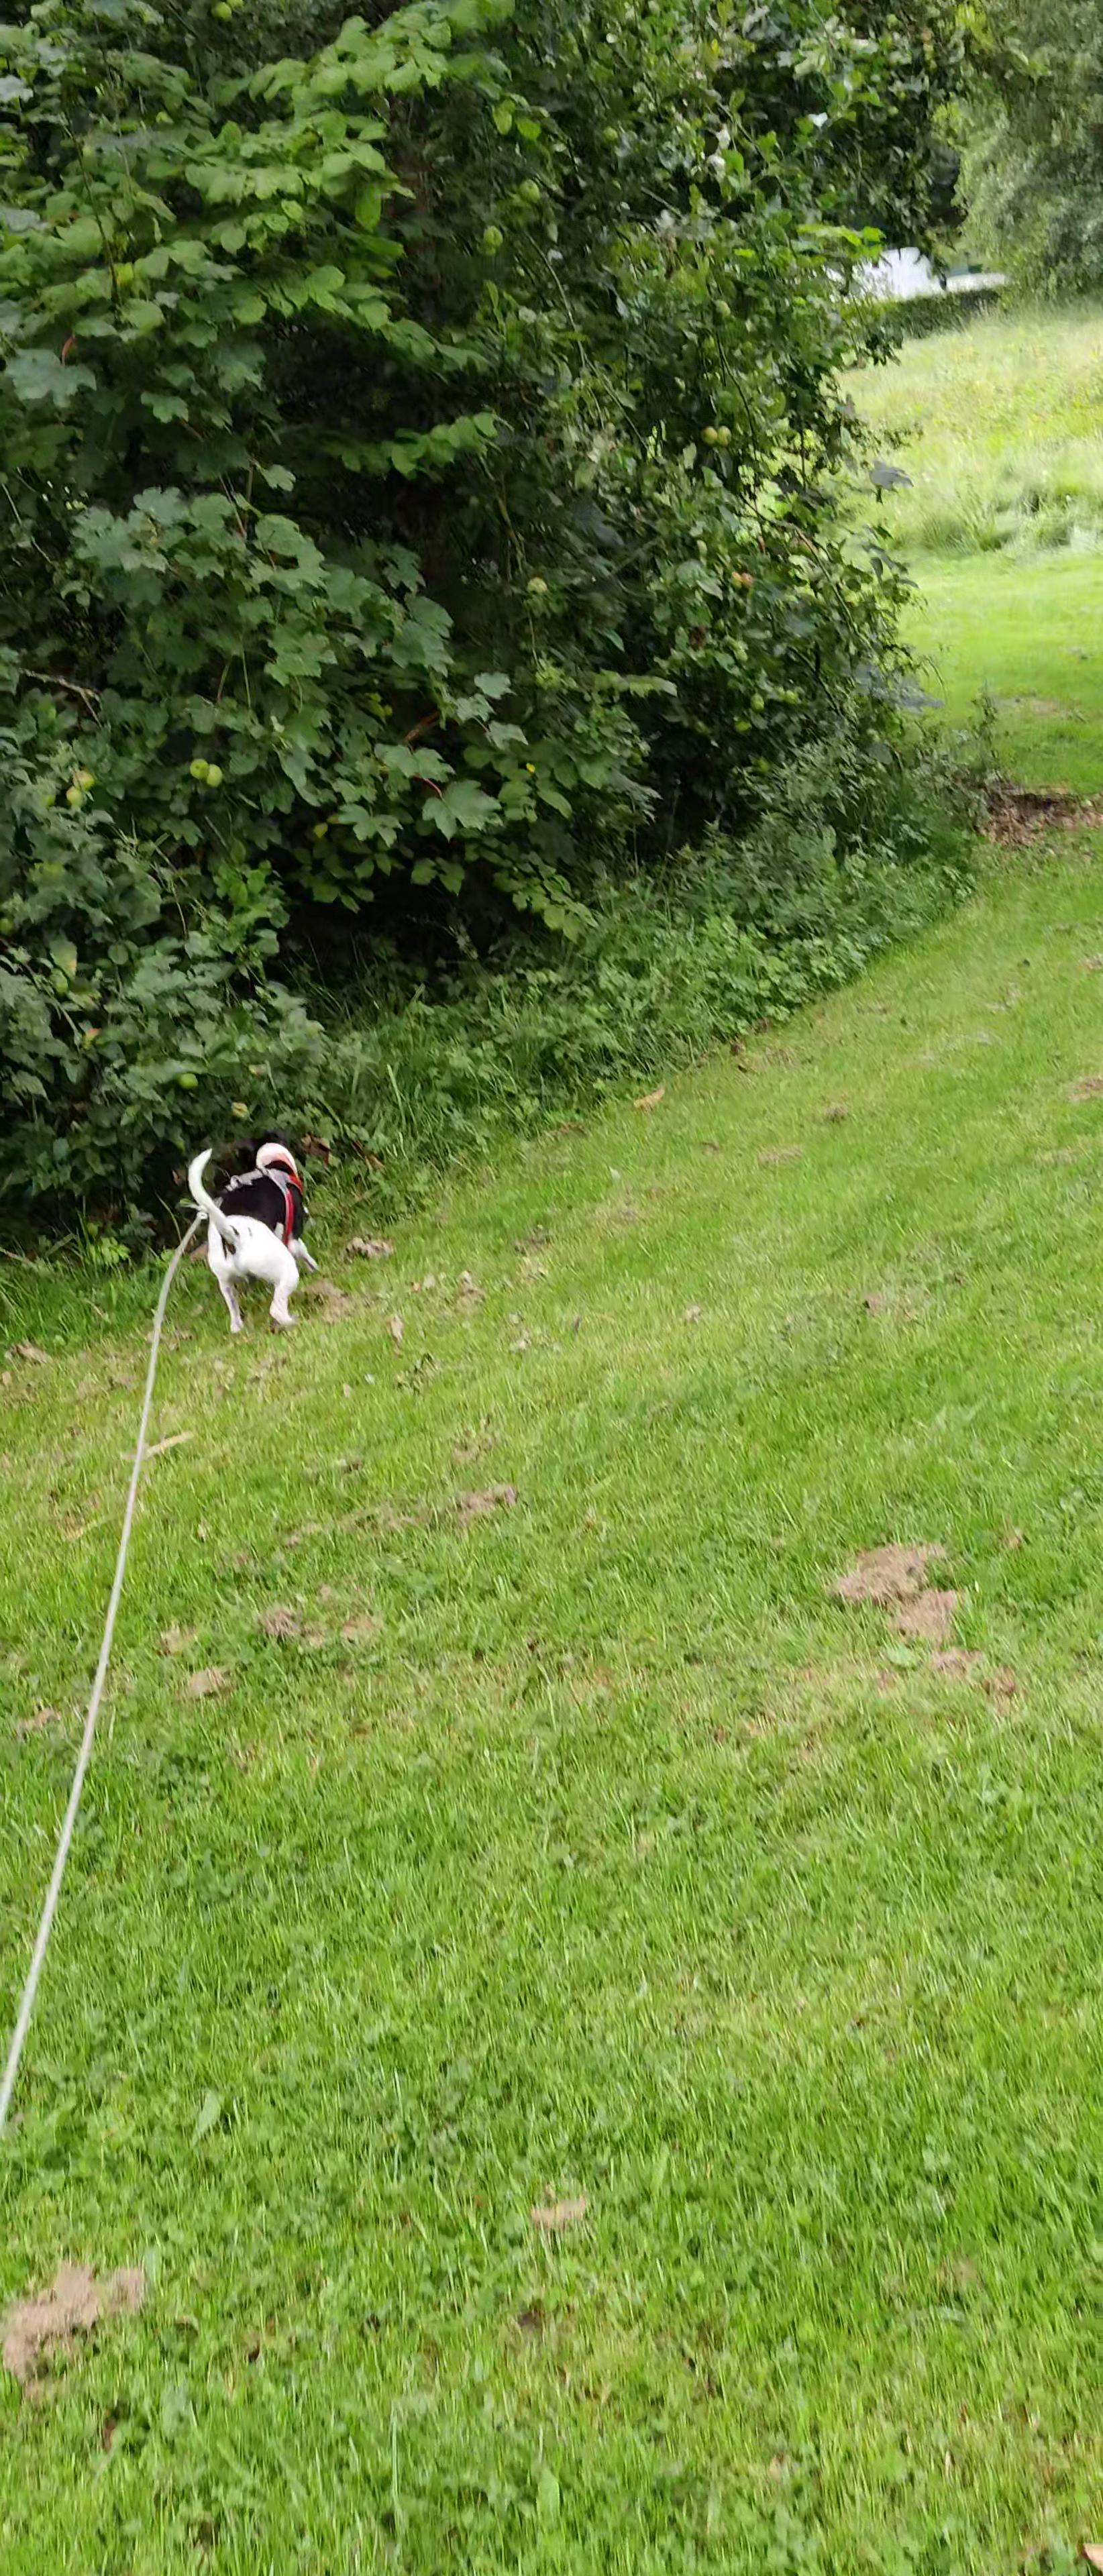Dog: (186, 1127, 322, 1341)
